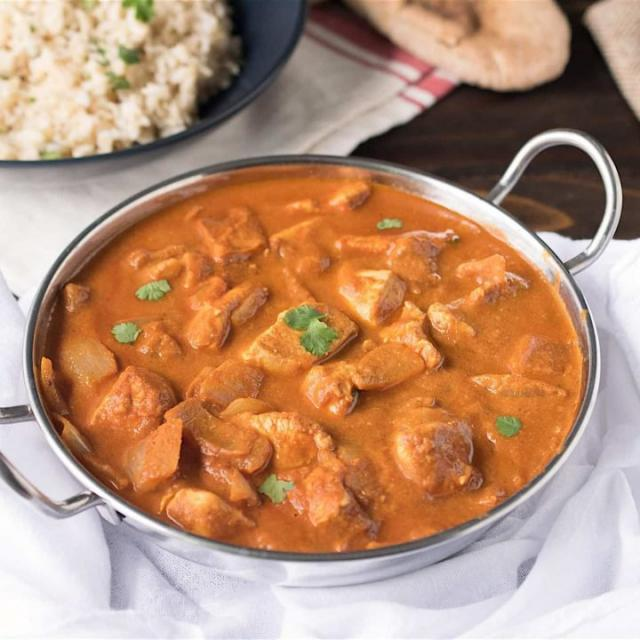Butter Chicken: (43, 171, 593, 553)
